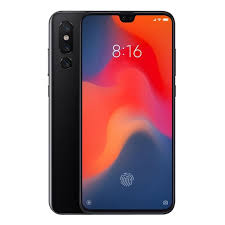mi: (46, 8, 176, 215), (77, 10, 176, 215)
